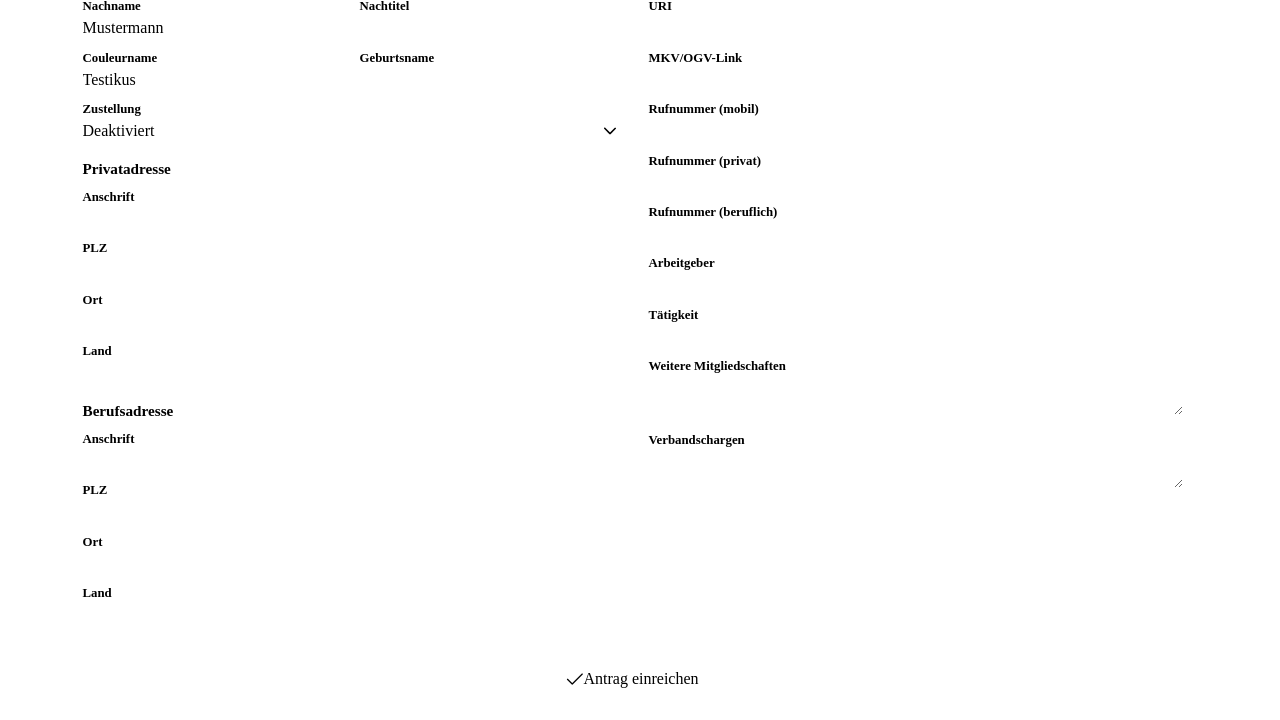
MyStammdatenView › submits changes and shows the pending banner on success
(page scrolled)
Click the button "Antrag einreichen": click(633, 678) [566,670,699,688]
(page scrolled)
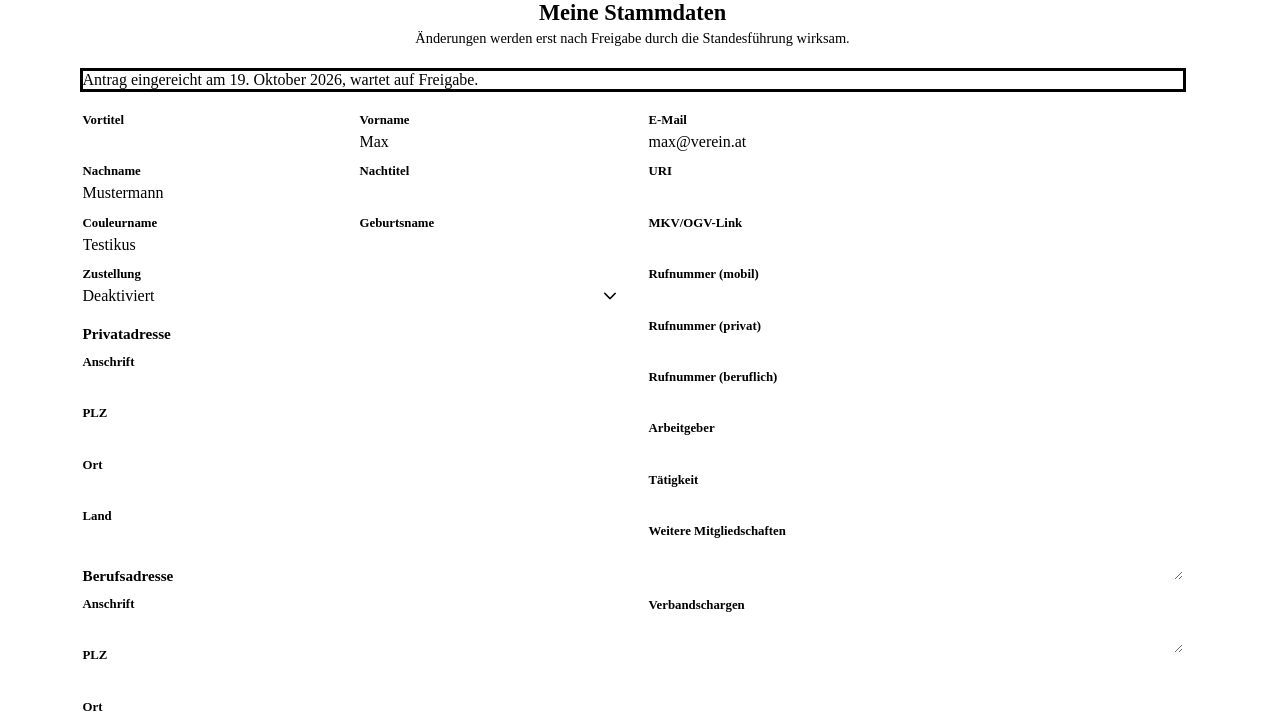
Expected: the element showing "Antrag eingereicht am 19. Oktober 2026, wartet auf Freigabe." is shown, [82,71,478,88]
